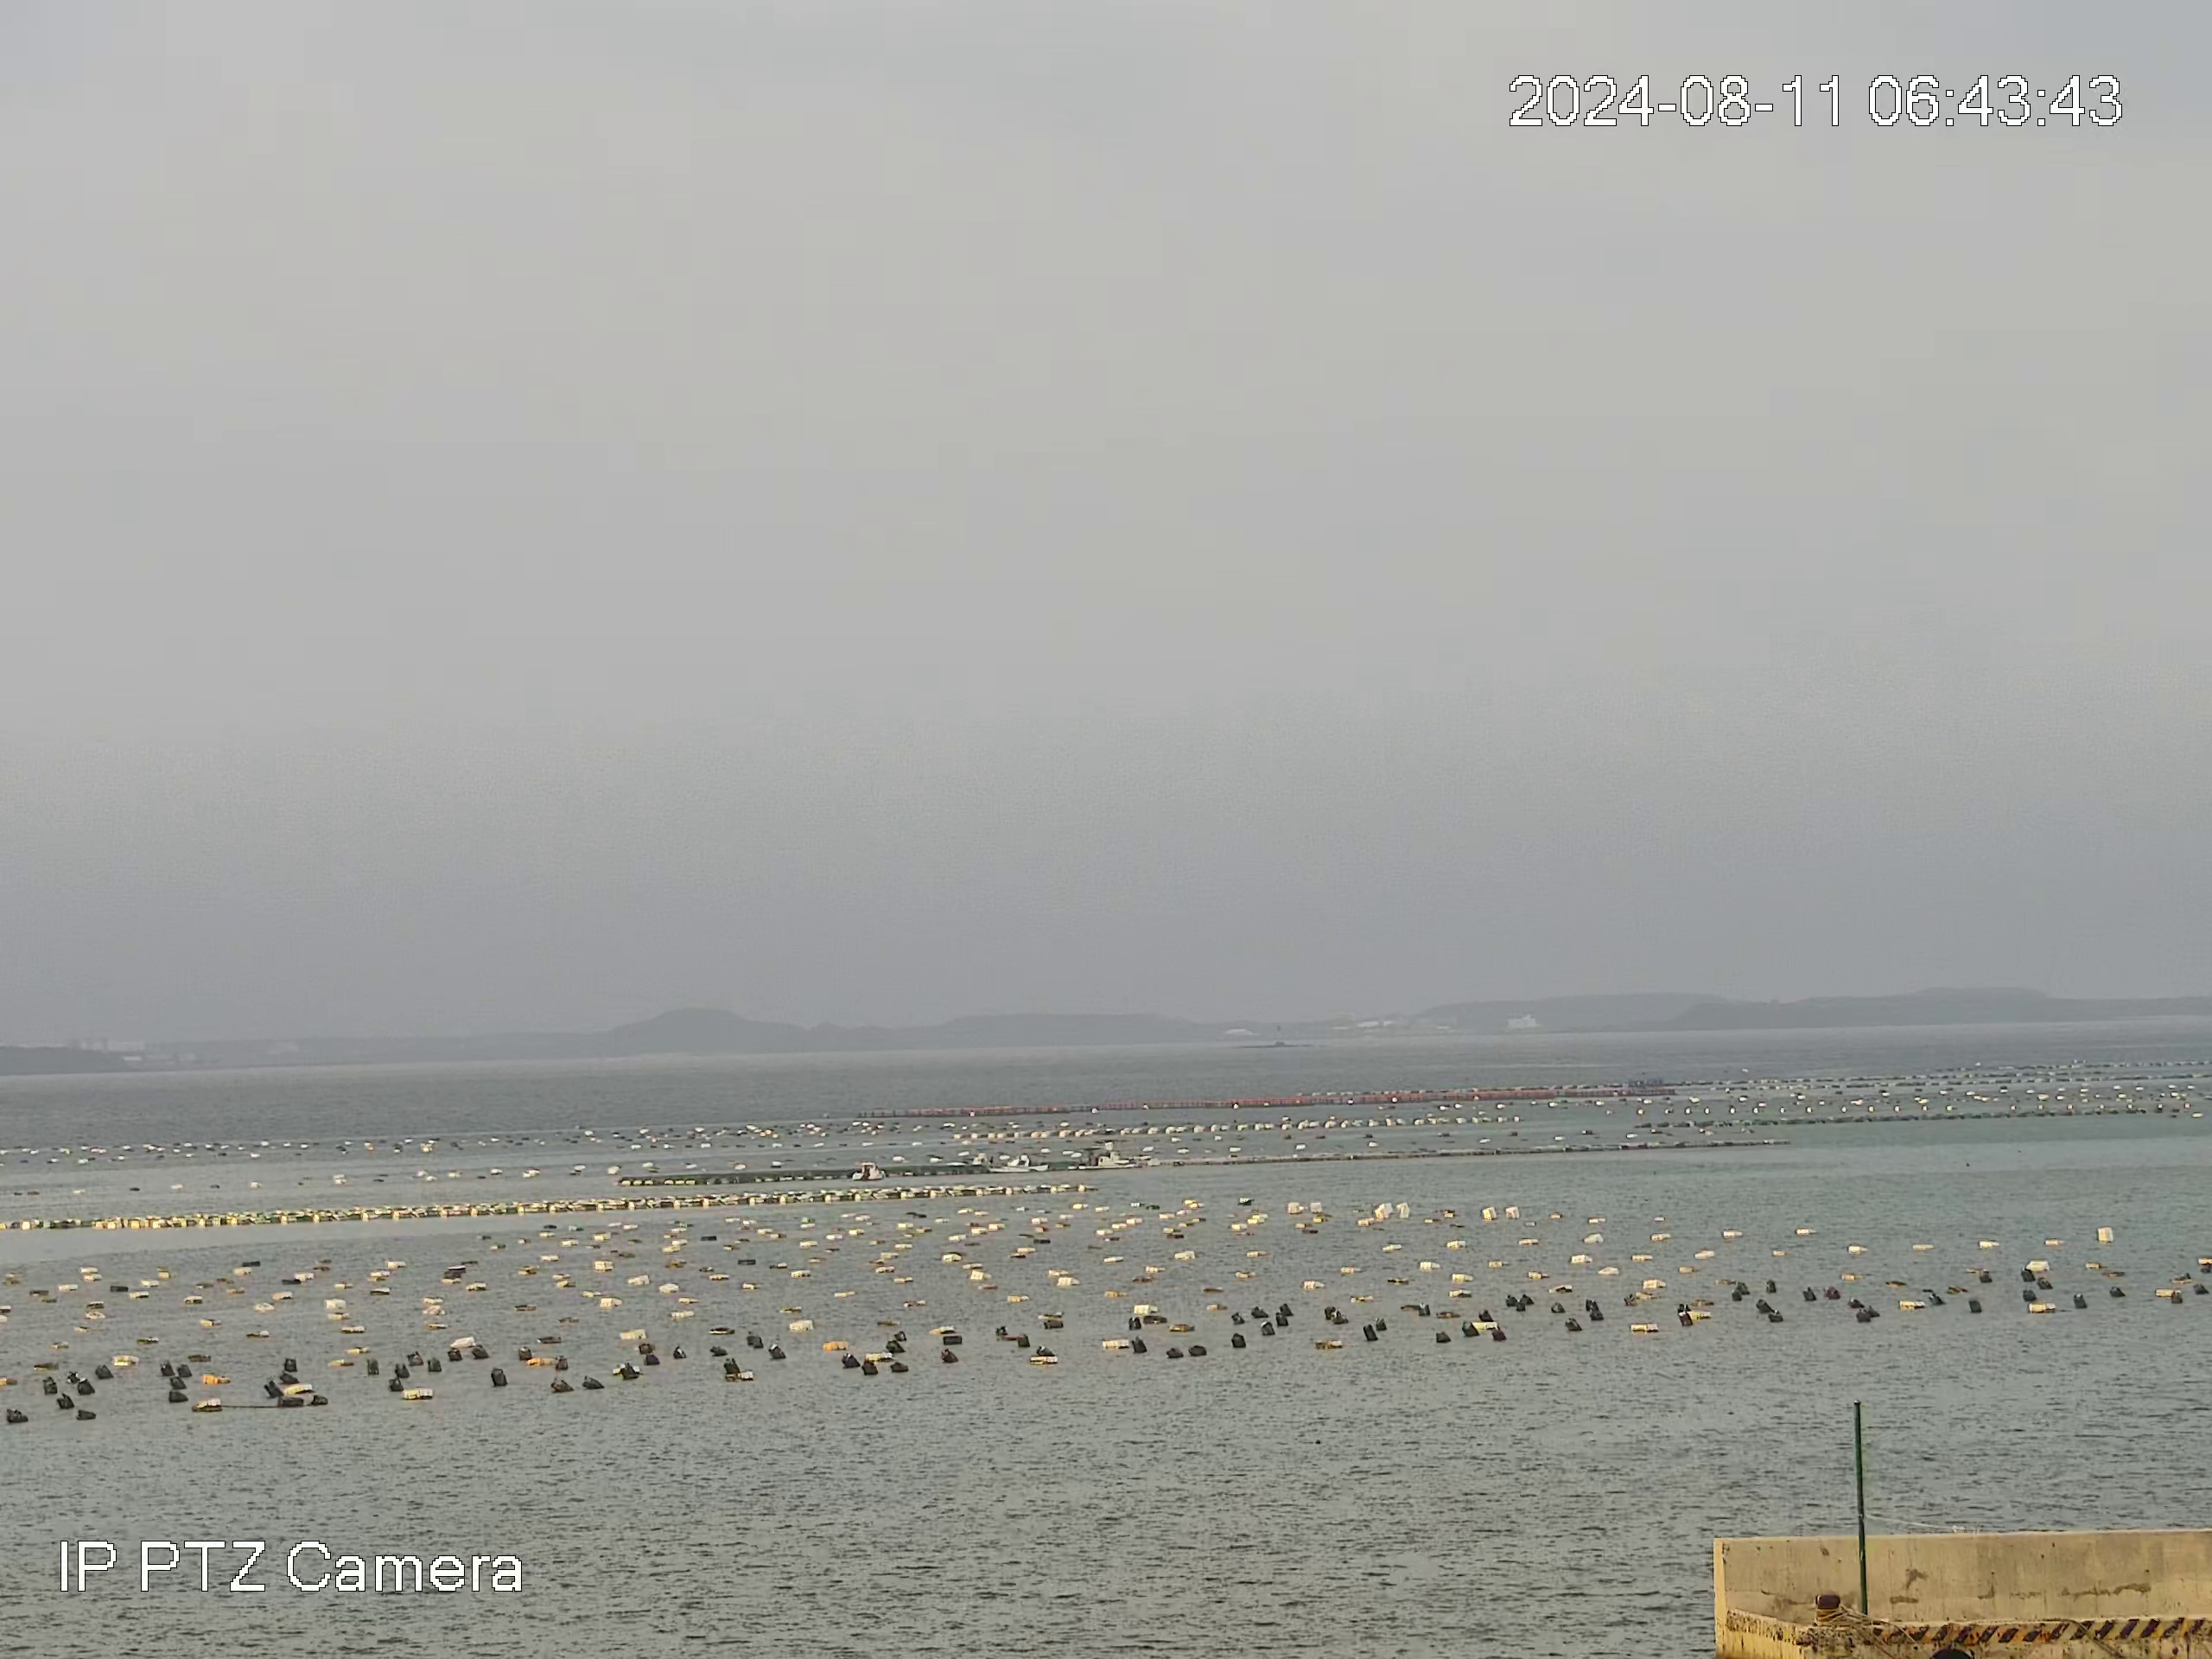boat: (986, 1152, 1050, 1175), (1066, 1154, 1118, 1171)
